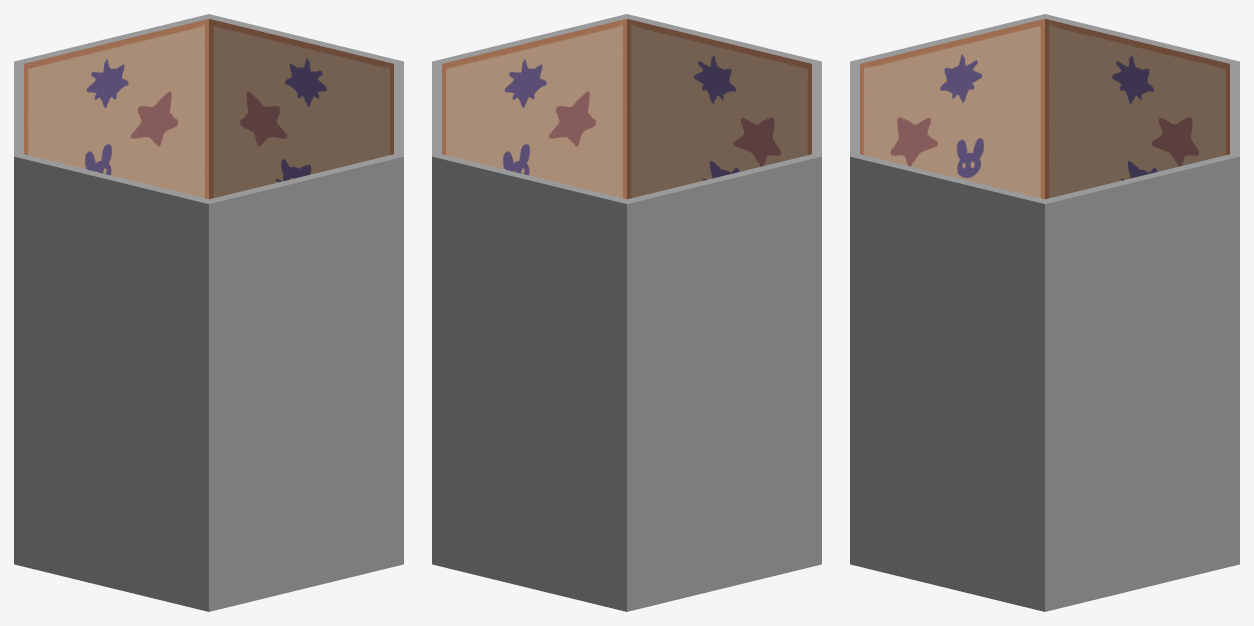
Rendered from roomwithwallpaper.fbx.
3 views of the same model, side by side, from view 1: azimuth 30°, elevation 25°; view 2: azimuth 150°, elevation 25°; view 3: azimuth 270°, elevation 25° (orthographic).
Parts seen in each view (by area): view 1: pasted__pPipe1; view 2: pasted__pPipe1; view 3: pasted__pPipe1.
Boxes of the visible parts, x1,y1,x2,y2 form: pasted__pPipe1: [14, 14, 403, 611]; pasted__pPipe1: [432, 14, 821, 611]; pasted__pPipe1: [850, 14, 1239, 611].
Bounding box in the file's own units: 2 × 2 × 1.73.
3 materials, 2 textured.
